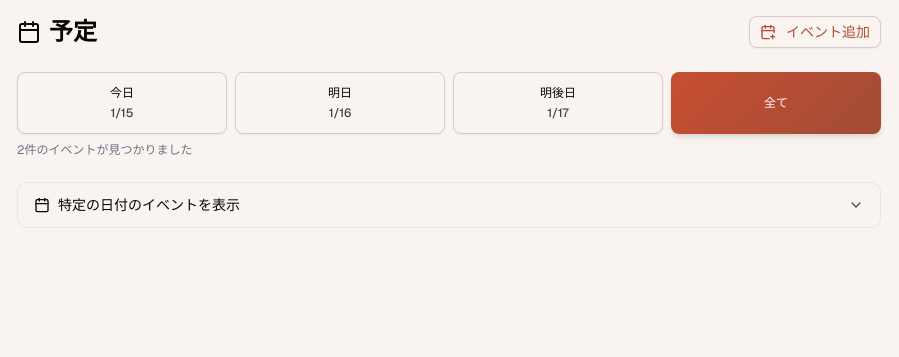
SchedulePresentation › should handle accordion expansion and collapse
The width and height of the screenshot is (899, 357).
Expected: the field labelled "日付を選択" is not shown
# クリックして展開
Click the button "特定の日付のイベントを表示" at {"x": 149, "y": 205}, box [18,183,880,227]
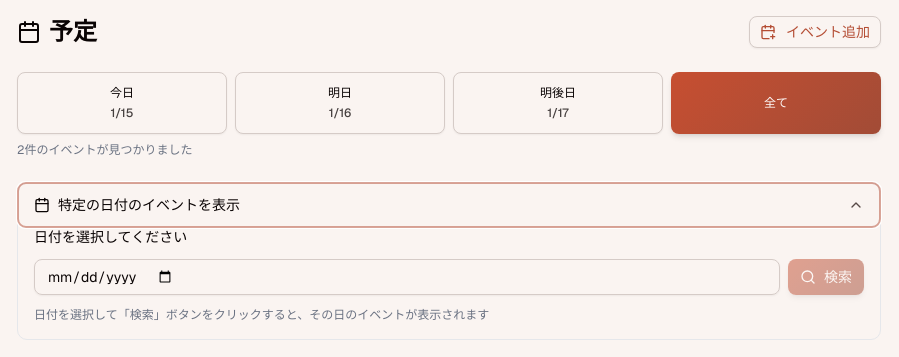
Result: the date field labelled "日付を選択してください" is shown at [34,259,780,295]
# もう一度クリックして折りたたみ
Click the button "特定の日付のイベントを表示" at {"x": 149, "y": 205}, box [18,183,880,227]
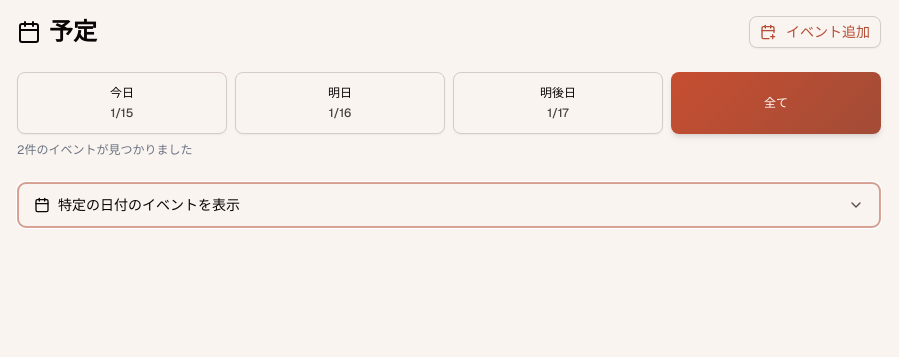
Result: the label labelled "日付を選択" is gone
